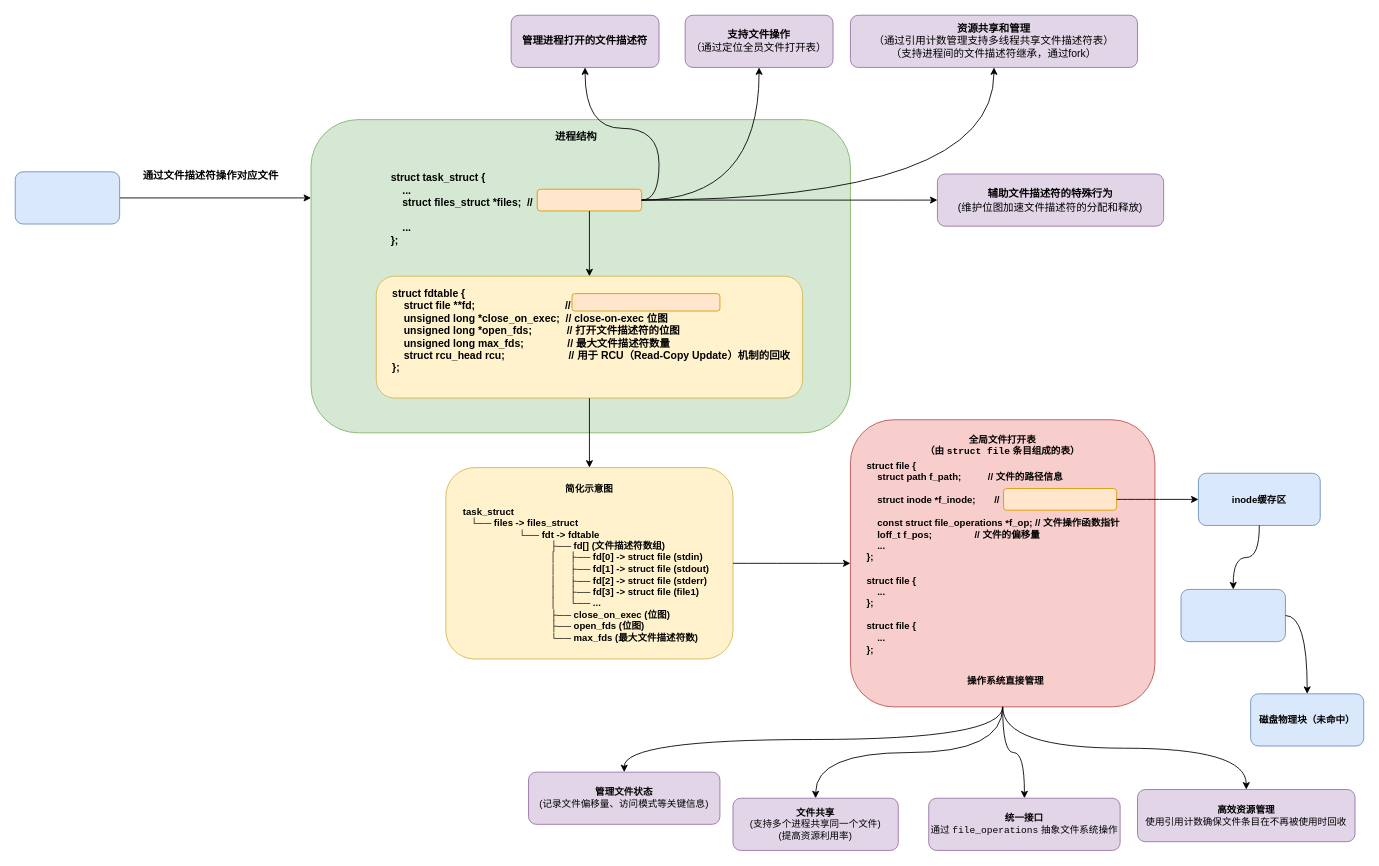
This 1379x866 diagram has some shape labels left out. Here are the shapes that lost their labels. From the top down, the box of each, then its label:
(14, 171, 120, 224): 程序
(536, 188, 642, 211): 文件描述符表
(571, 293, 720, 311): 文件描述符数组（指针数组）
(1003, 488, 1117, 510): 指向文件的 inode 对象
(1180, 589, 1285, 642): 页缓存（命中）
